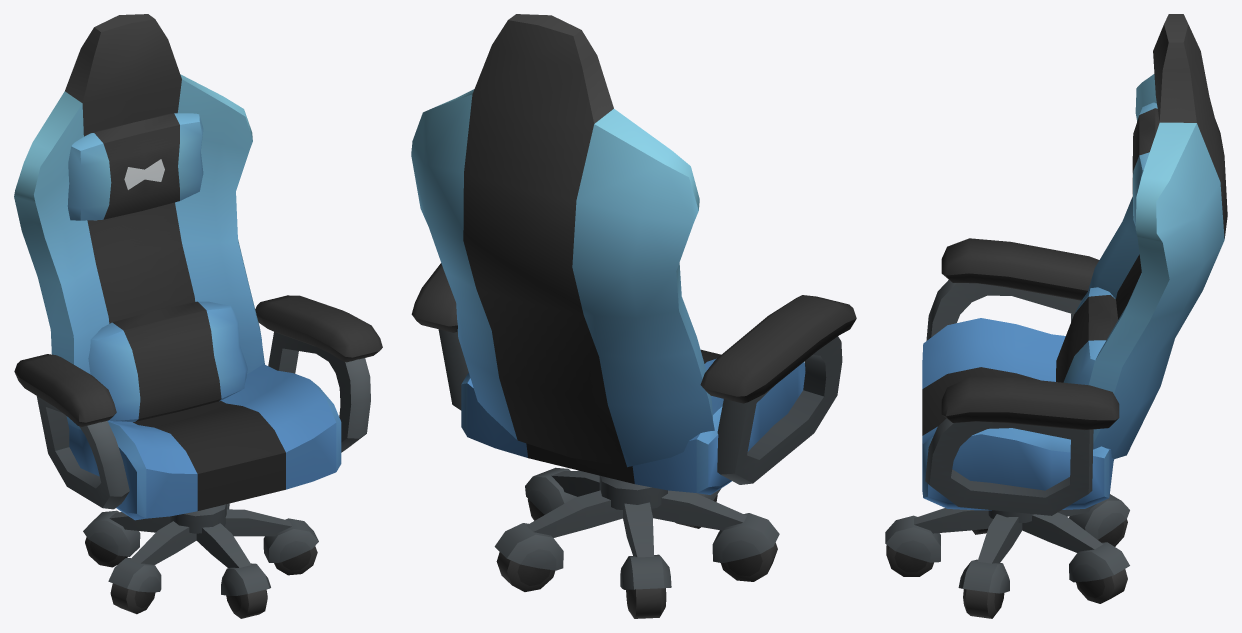
File: gamer_chair_A.glb
3 renders of one model, left to right at view 1: azimuth 30°, elevation 25°; view 2: azimuth 150°, elevation 25°; view 3: azimuth 270°, elevation 25°, orthographic. The views are drawn at different scales.
Visible parts, largest first — view 1: chair_top_A, gamer_chair_A; view 2: chair_top_A, gamer_chair_A; view 3: chair_top_A, gamer_chair_A.
Part boxes in pixels (box(x1,y1,x2,y2)): chair_top_A: box(14, 14, 382, 520); gamer_chair_A: box(83, 503, 318, 618); chair_top_A: box(411, 14, 856, 494); gamer_chair_A: box(494, 467, 779, 618); chair_top_A: box(922, 14, 1227, 515); gamer_chair_A: box(885, 494, 1129, 618).
Size of the model in its own units: 1.1 by 1.73 by 0.9818.
1 material, 1 textured.
